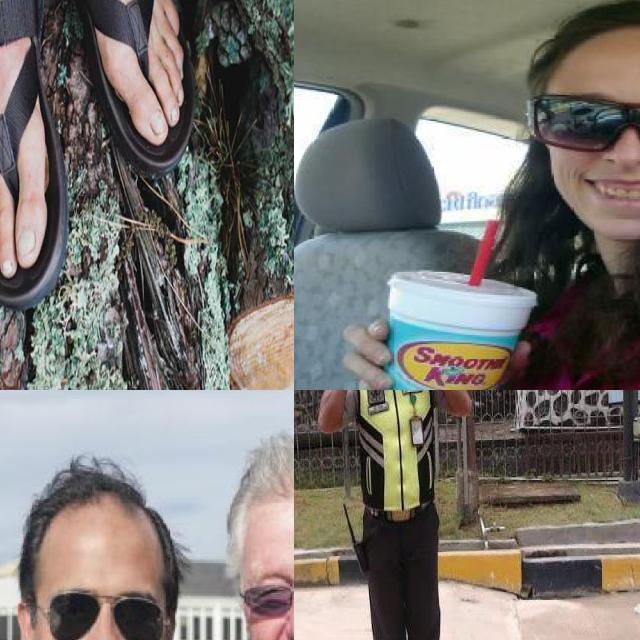Sandals: (0, 0, 234, 347)
face_nomask: (555, 106, 640, 215), (43, 593, 171, 640), (243, 578, 294, 640)
glasses: (40, 579, 168, 640), (536, 80, 640, 152), (240, 569, 294, 618)
hand_noglove: (341, 311, 407, 390)
head_nohelmet: (29, 471, 169, 555), (532, 0, 640, 69), (220, 447, 294, 534)
person: (422, 0, 640, 390), (324, 390, 476, 640), (0, 448, 195, 640), (160, 440, 294, 640)
vest: (351, 390, 442, 518)
